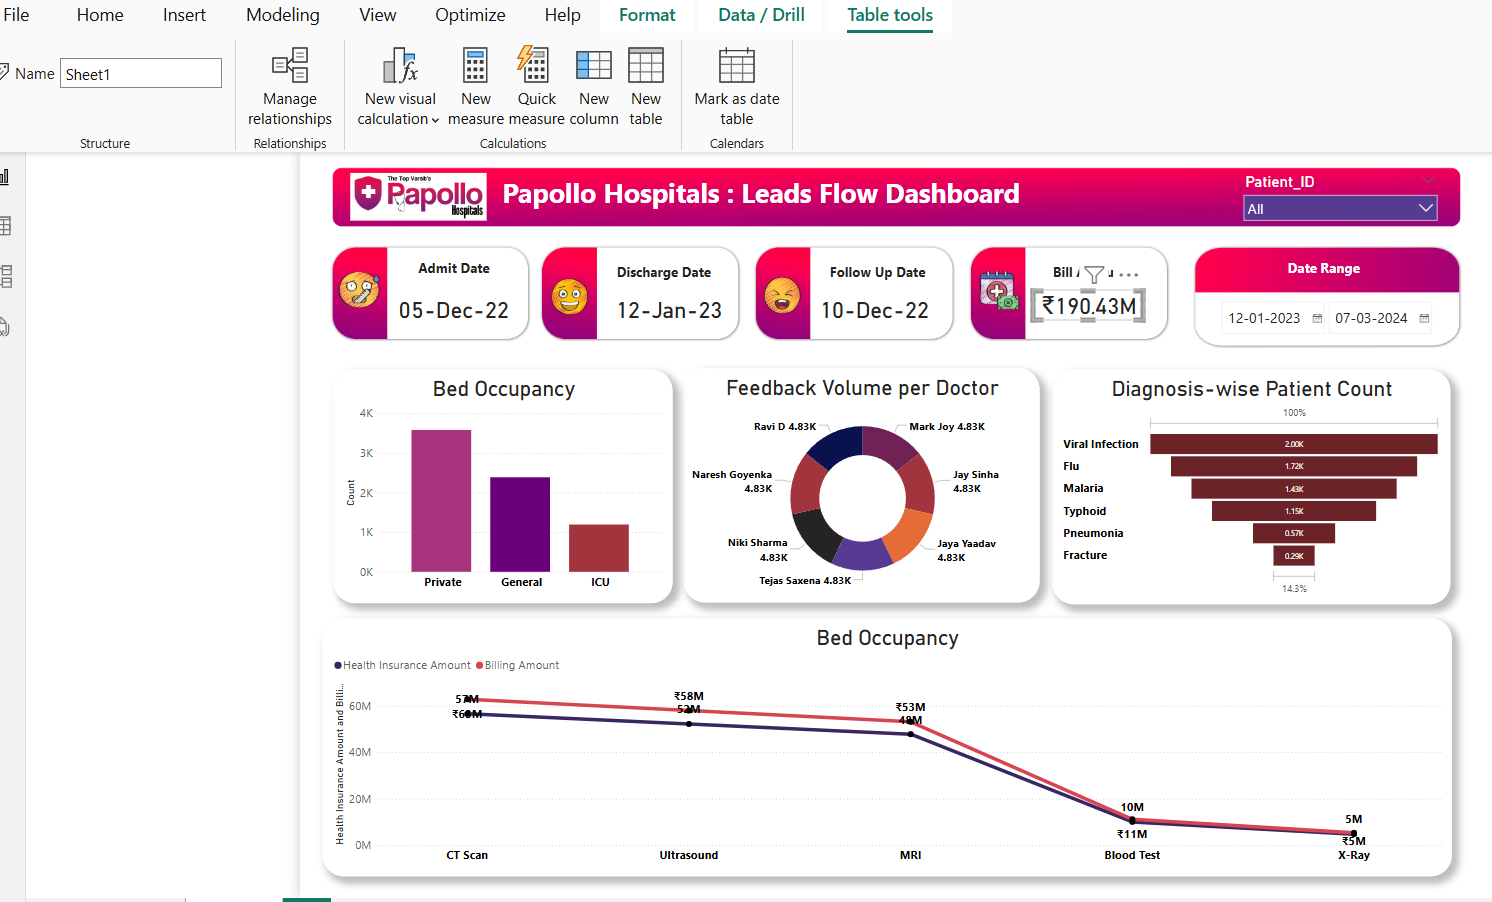

The page's visual inventory and layout, read from the dashboard file:
{"tool":"powerbi","page":{"name":"Page 2","canvas":[1680,1050],"ordinal":0},"visuals":[{"type":"textbox","box":[280,27.1,755.7,74.3],"z":0},{"type":"image","box":[2636.7,100,623.3,150],"z":1000},{"type":"slicer","fields":{"Values":["Sheet1.Patient_ID"]},"box":[2400,373.3,793.3,420],"z":2000},{"type":"card","fields":{"Values":["Min(Sheet1.Admit_Date)"]},"box":[437.6,198.8,162.9,42.8],"z":3000},{"type":"card","fields":{"Values":["Min(Sheet1.Discharge_Date)"]},"box":[129.8,198.8,172.6,42.8],"z":4000},{"type":"card","fields":{"Values":["Min(Sheet1.Followup Date)"]},"box":[724.3,198.6,167.1,42.9],"z":5000},{"type":"textbox","box":[152.9,145.7,127.1,57.1],"z":6000},{"type":"textbox","box":[437.1,151.4,151.4,37.1],"z":7000},{"type":"textbox","box":[732.9,151.4,158.6,37.1],"z":8000},{"type":"textbox","box":[1035.7,151.4,151.4,37.1],"z":9000},{"type":"card","fields":{"Values":["Sum(Sheet1.Billing Amount)"]},"box":[1031.4,194.3,158.6,42.9],"z":10000},{"type":"image","box":[50,157.1,68.6,74.3],"z":11000},{"type":"image","box":[348.6,172.9,62.9,62.9],"z":12000},{"type":"image","box":[640,171.4,77.1,62.9],"z":13000},{"type":"image","box":[951.4,158.6,65.7,71.4],"z":14000},{"type":"columnChart","title":"Bed Occupancy","fields":{"Category":["Sheet1.Bed_Occupancy"],"Y":["CountNonNull(Sheet1.Bed_Occupancy)"]},"box":[47.1,305.7,477.1,328.6],"z":15000},{"type":"donutChart","title":"Feedback Volume per Doctor","fields":{"Category":["Sheet1.Doctor"],"Y":["Sum(Sheet1.Feedback)"]},"box":[540.2,305.2,501,329.5],"z":16000},{"type":"funnel","title":"Diagnosis-wise Patient Count","fields":{"Category":["Sheet1.Diagnosis"],"Y":["CountNonNull(Sheet1.Diagnosis)"]},"box":[1060,305.7,560,330],"z":17000},{"type":"image","box":[30,24.3,274.3,77.1],"z":18000},{"type":"lineChart","title":"Bed Occupancy","fields":{"Y":["Sum(Sheet1.Health Insurance Amount)","Sum(Sheet1.Billing Amount)"],"Category":["Sheet1.Test"]},"box":[31.1,656.3,1589.5,363.3],"z":19000},{"type":"slicer","fields":{"Values":["Sheet1.Admit_Date"]},"box":[1284.3,201.2,360.6,68.9],"z":20000},{"type":"slicer","fields":{"Values":["Sheet1.Patient_ID"]},"box":[1317.1,24.3,292.9,82.9],"z":21000},{"type":"textbox","box":[1365.7,145.7,151.4,37.1],"z":22000}]}

Visuals, with their boxes on the page's 1680x1050 design canvas (x1, y1, x2, y2). These are canvas units, not pixel positions in the 1492x902 screenshot, which may show the page scaled, cropped or inside an application window:
textbox: {"left": 280, "top": 27, "right": 1036, "bottom": 101}
image: {"left": 2637, "top": 100, "right": 3260, "bottom": 250}
slicer - Sheet1.Patient_ID: {"left": 2400, "top": 373, "right": 3193, "bottom": 793}
card - Min(Sheet1.Admit_Date): {"left": 438, "top": 199, "right": 600, "bottom": 242}
card - Min(Sheet1.Discharge_Date): {"left": 130, "top": 199, "right": 302, "bottom": 242}
card - Min(Sheet1.Followup Date): {"left": 724, "top": 199, "right": 891, "bottom": 242}
textbox: {"left": 153, "top": 146, "right": 280, "bottom": 203}
textbox: {"left": 437, "top": 151, "right": 588, "bottom": 188}
textbox: {"left": 733, "top": 151, "right": 892, "bottom": 188}
textbox: {"left": 1036, "top": 151, "right": 1187, "bottom": 188}
card - Sum(Sheet1.Billing Amount): {"left": 1031, "top": 194, "right": 1190, "bottom": 237}
image: {"left": 50, "top": 157, "right": 119, "bottom": 231}
image: {"left": 349, "top": 173, "right": 412, "bottom": 236}
image: {"left": 640, "top": 171, "right": 717, "bottom": 234}
image: {"left": 951, "top": 159, "right": 1017, "bottom": 230}
"Bed Occupancy" columnChart: {"left": 47, "top": 306, "right": 524, "bottom": 634}
"Feedback Volume per Doctor" donutChart: {"left": 540, "top": 305, "right": 1041, "bottom": 635}
"Diagnosis-wise Patient Count" funnel: {"left": 1060, "top": 306, "right": 1620, "bottom": 636}
image: {"left": 30, "top": 24, "right": 304, "bottom": 101}
"Bed Occupancy" lineChart: {"left": 31, "top": 656, "right": 1621, "bottom": 1020}
slicer - Sheet1.Admit_Date: {"left": 1284, "top": 201, "right": 1645, "bottom": 270}
slicer - Sheet1.Patient_ID: {"left": 1317, "top": 24, "right": 1610, "bottom": 107}
textbox: {"left": 1366, "top": 146, "right": 1517, "bottom": 183}
